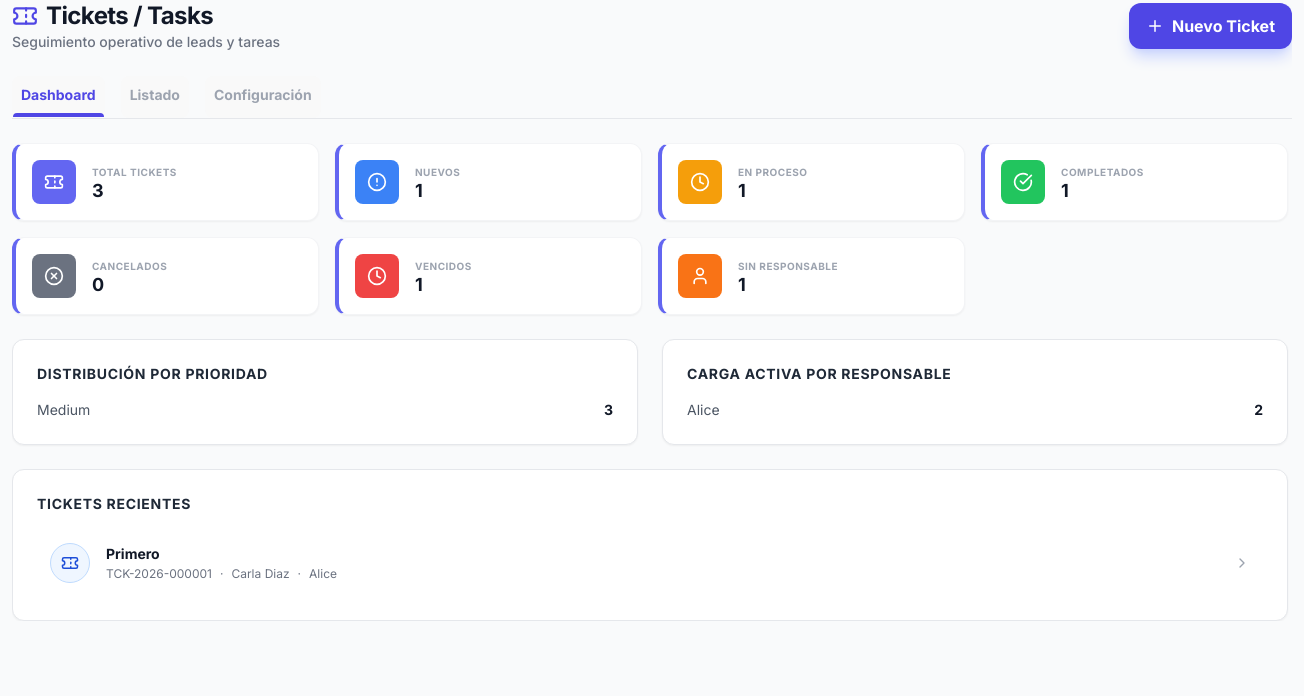
it: Tickets — detail and assignment › a terminal ticket never offers assignment controls
Step 1. Click the button "Listado" → click(155, 97), box x1=121 y1=76 x2=189 y2=118
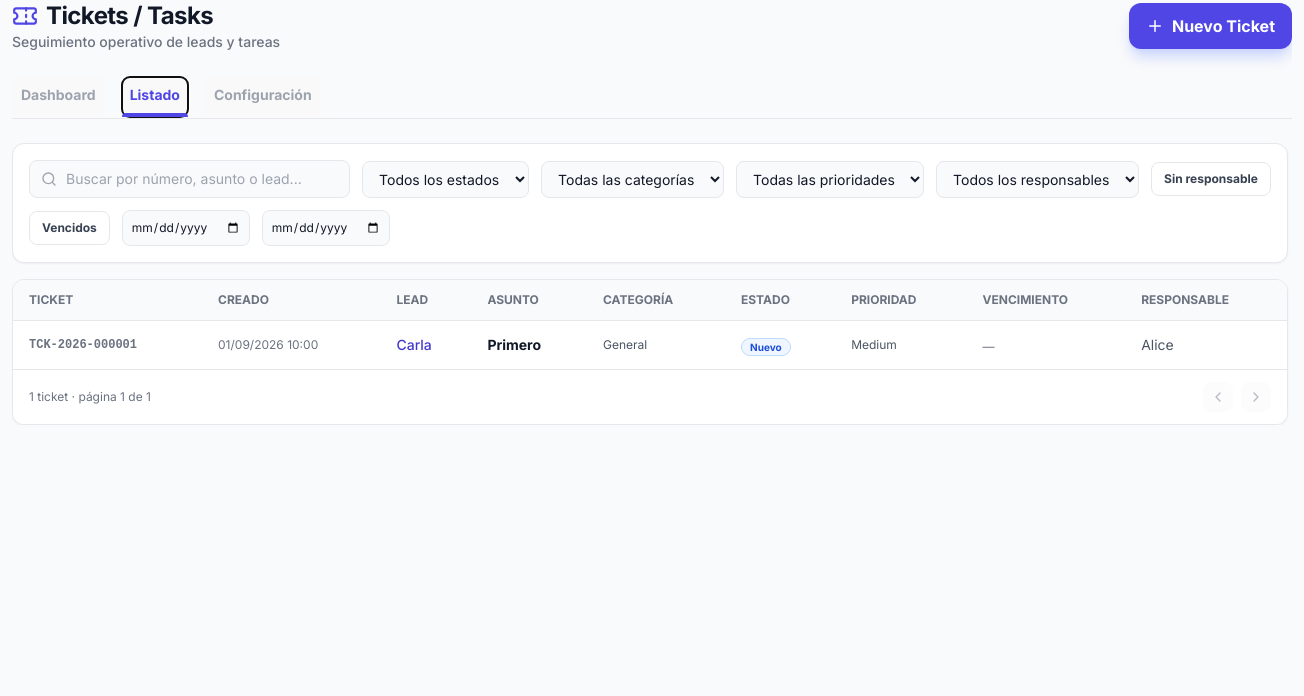
Step 2. Click the text "Primero" → click(529, 345), box x1=471 y1=321 x2=587 y2=369
(page scrolled)
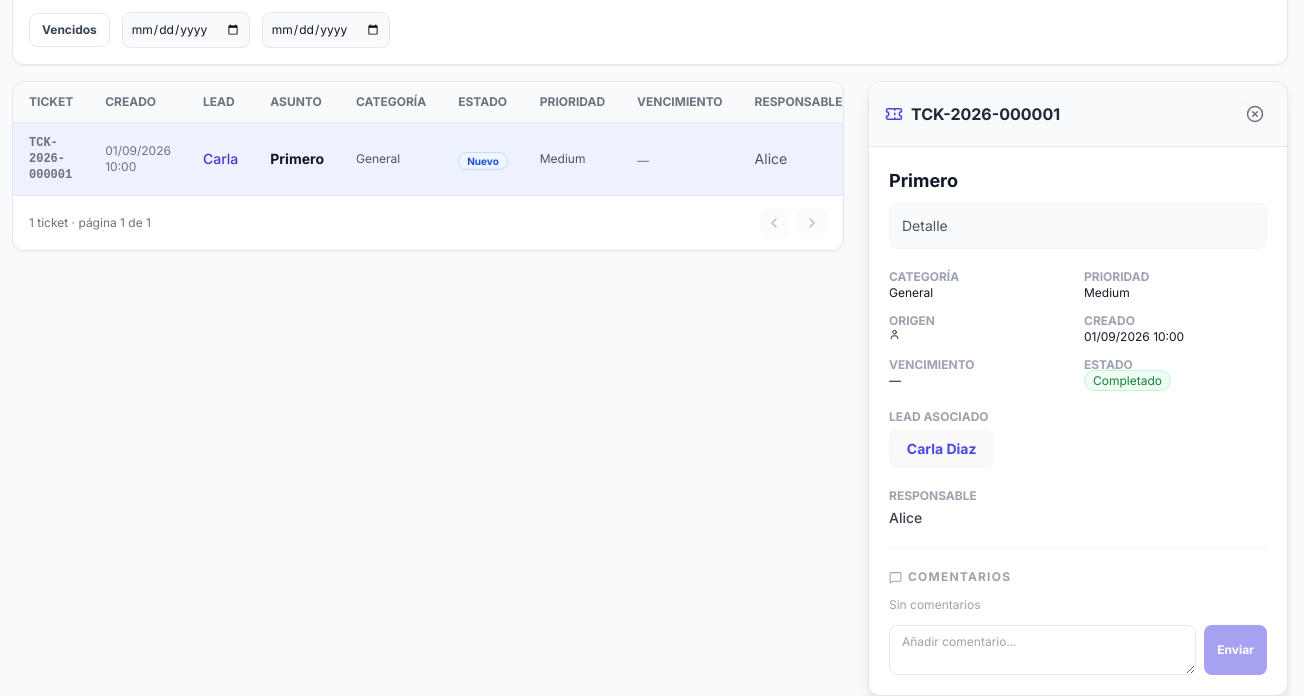
Now the text "Alice" is shown, box x1=889 y1=509 x2=922 y2=526
